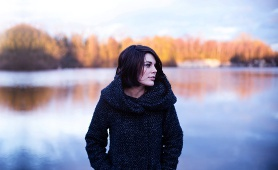female: (127, 48, 161, 89)
